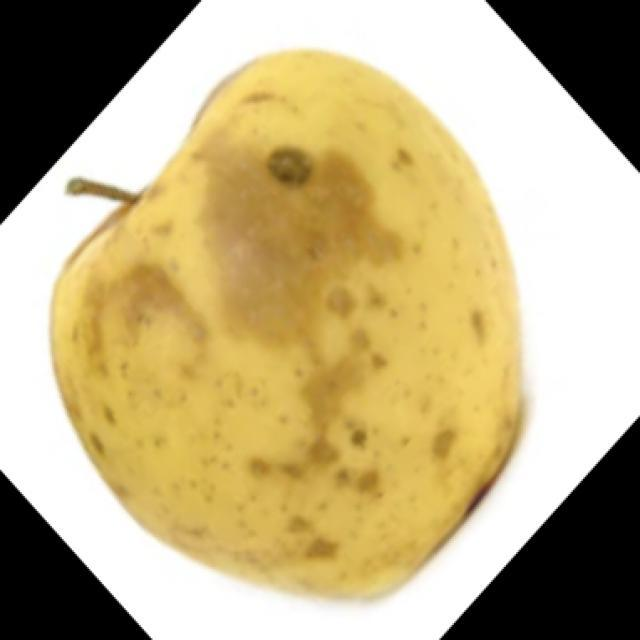Rotten: (72, 58, 550, 590)
